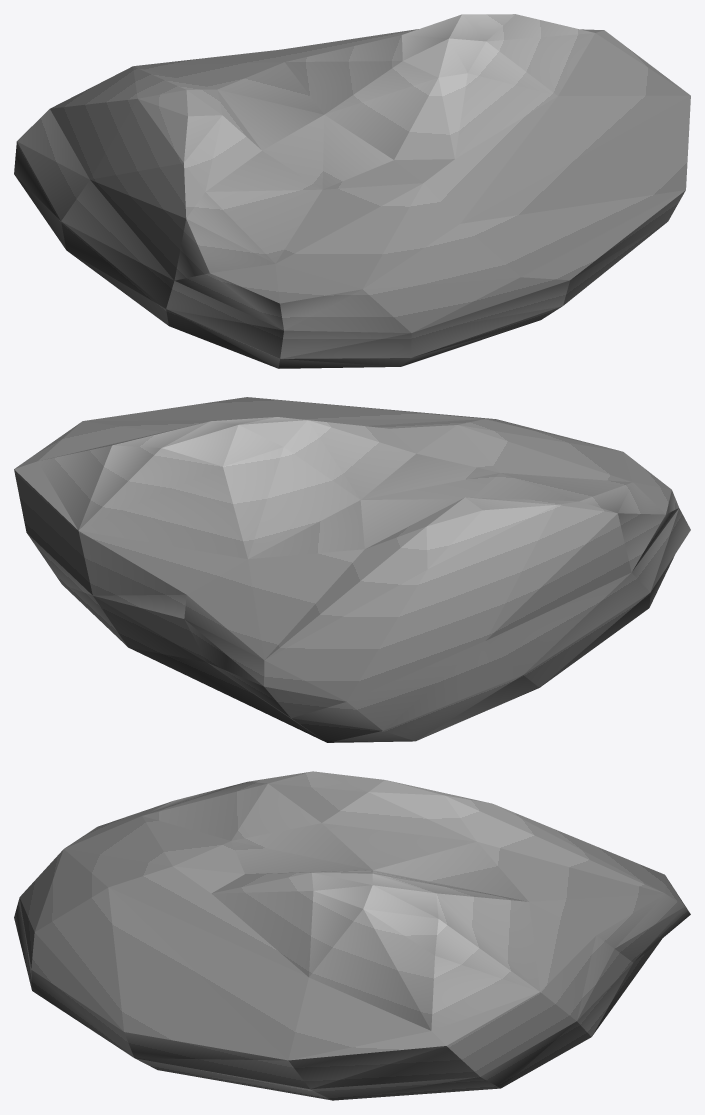
Rendered from Prefab_Rock_Slab.glb.
3 renders of one model, top to bottom at view 1: azimuth 30°, elevation 25°; view 2: azimuth 150°, elevation 25°; view 3: azimuth 270°, elevation 25°, orthographic. The views are drawn at different scales.
Visible parts, largest first — view 1: Rock_Slate_B; view 2: Rock_Slate_B; view 3: Rock_Slate_B.
Boxes of the visible parts, x1,y1,x2,y2 form: Rock_Slate_B: [14, 14, 690, 368]; Rock_Slate_B: [14, 397, 690, 742]; Rock_Slate_B: [14, 771, 690, 1100].
Bounding box in the file's own units: 5.12 × 1.53 × 5.38.
1 material, 1 textured.
